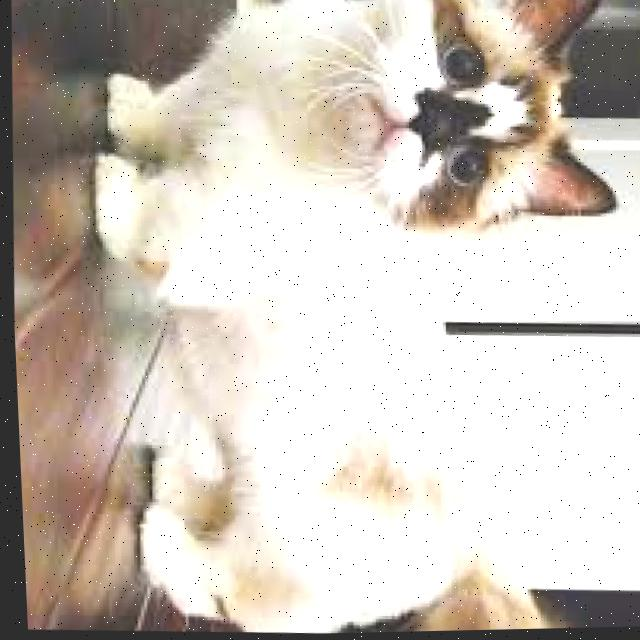Munchkin: (62, 0, 640, 639)
